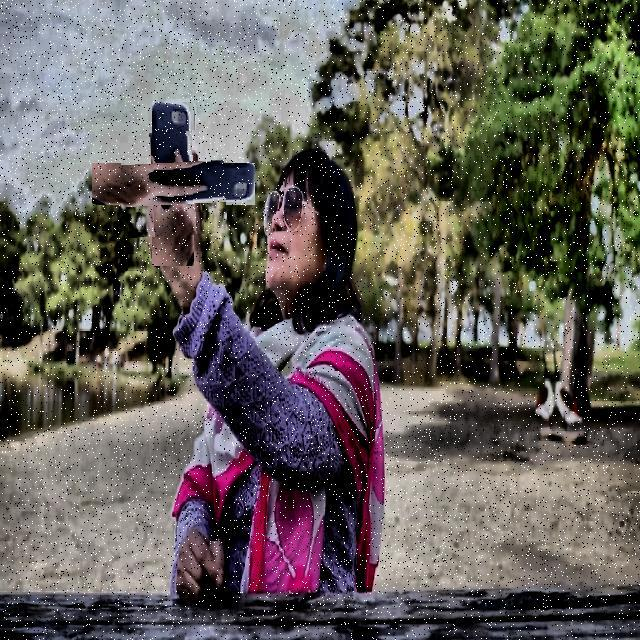Phone: (121, 131, 226, 237)
